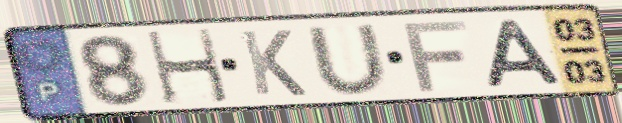8: (76, 32, 155, 108)
A: (480, 17, 568, 90)
F: (398, 18, 472, 94)
H: (142, 26, 234, 107)
K: (236, 28, 311, 98)
U: (302, 21, 394, 97)
